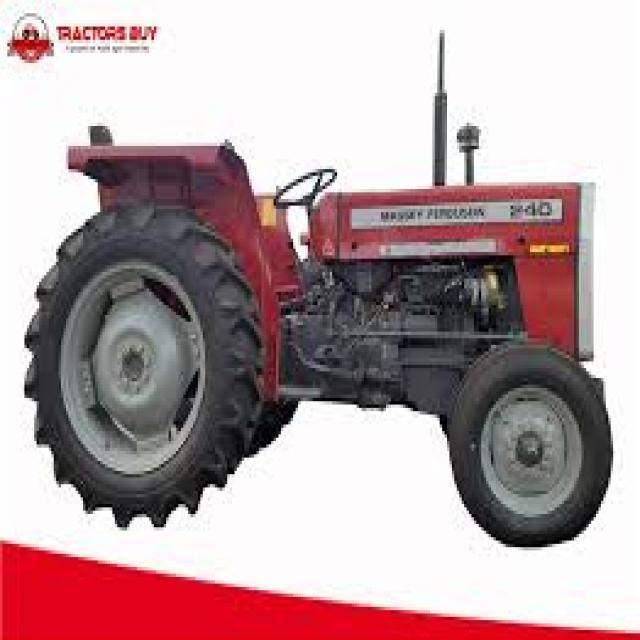tractor: (24, 127, 604, 547)
